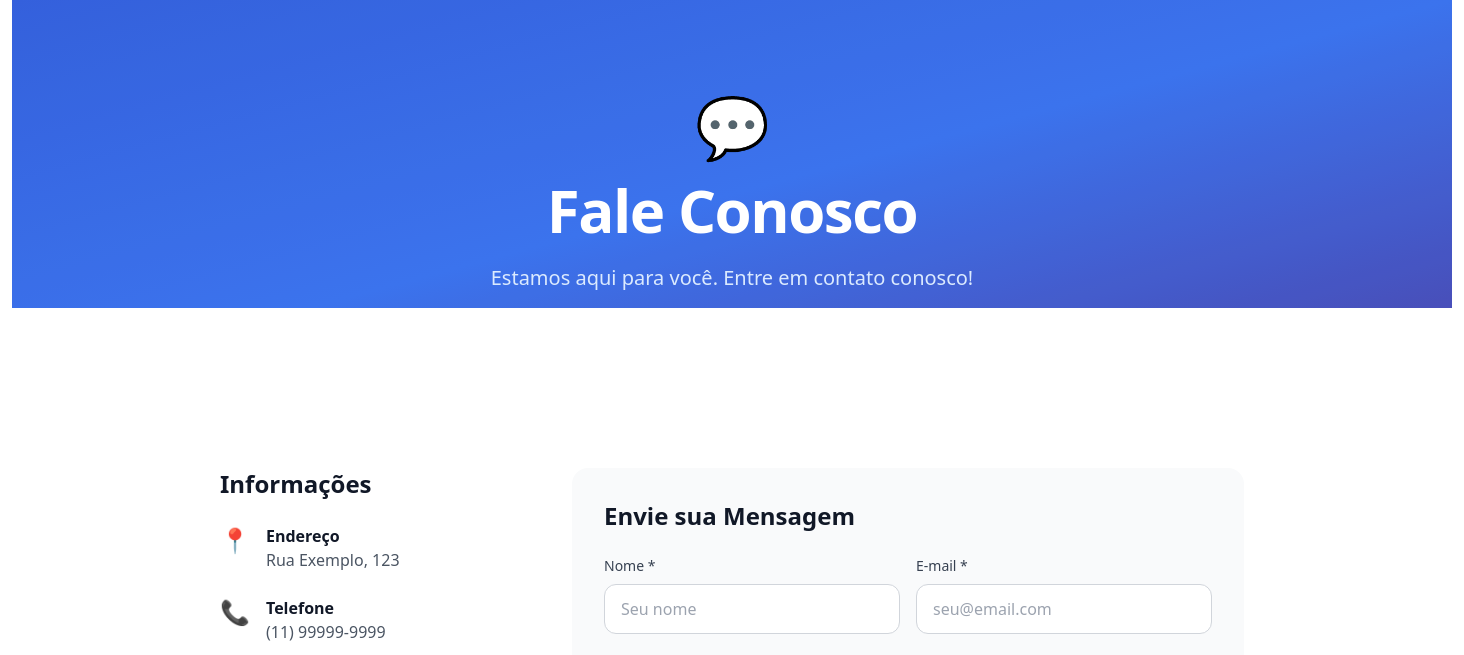
ContactPage › Form Validation › should show error when message is empty
This screenshot has width=1464, height=655.
Type "John Doe" into the field with placeholder "Seu nome" at (752, 609), box x1=604 y1=584 x2=900 y2=634
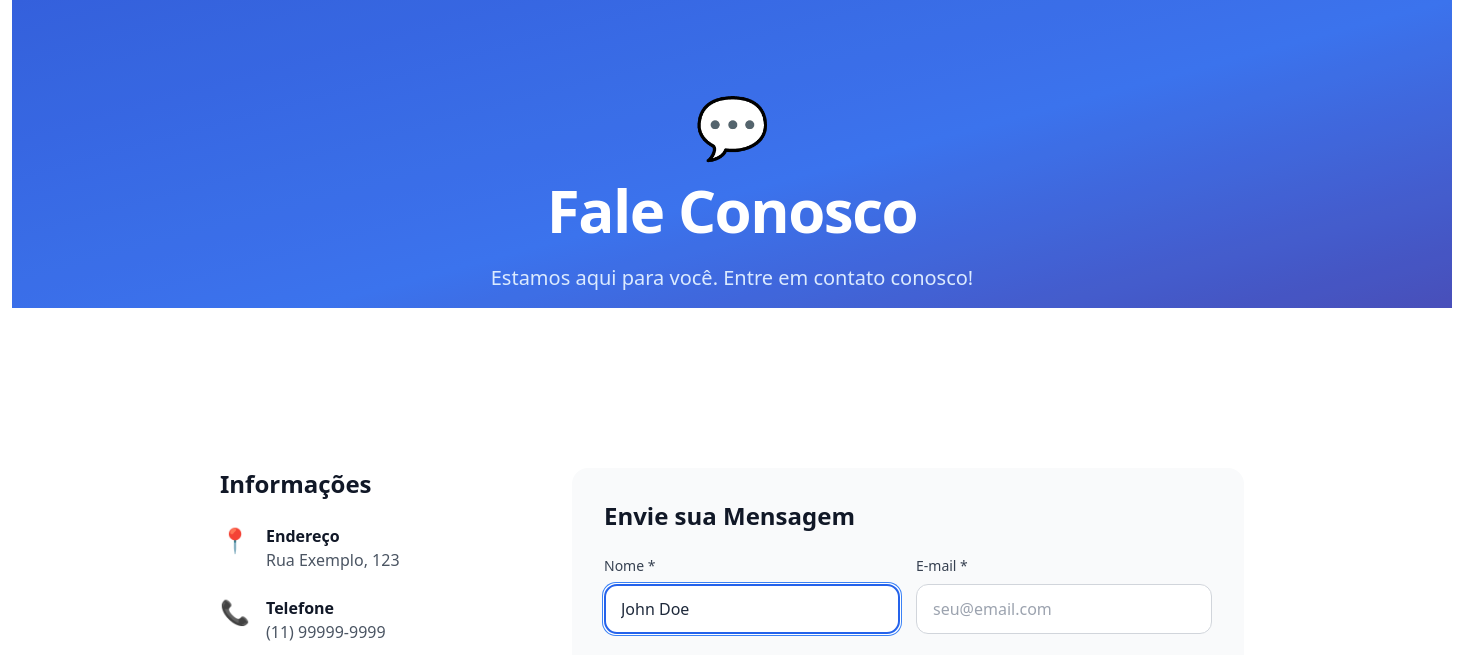
Type "john@example.com" into the field with placeholder "seu@email.com" at (1064, 609), box x1=916 y1=584 x2=1212 y2=634
(page scrolled)
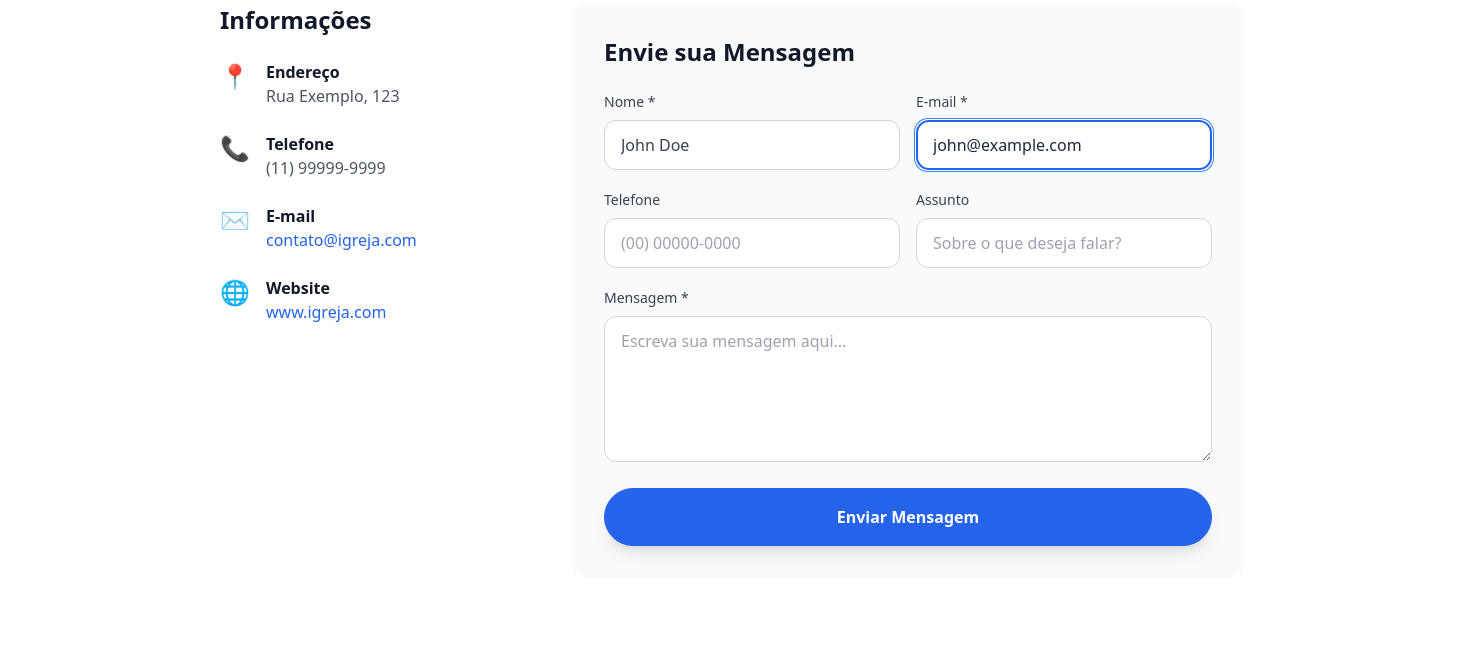
Click the button "Enviar Mensagem" at (908, 517), box x1=604 y1=488 x2=1212 y2=546
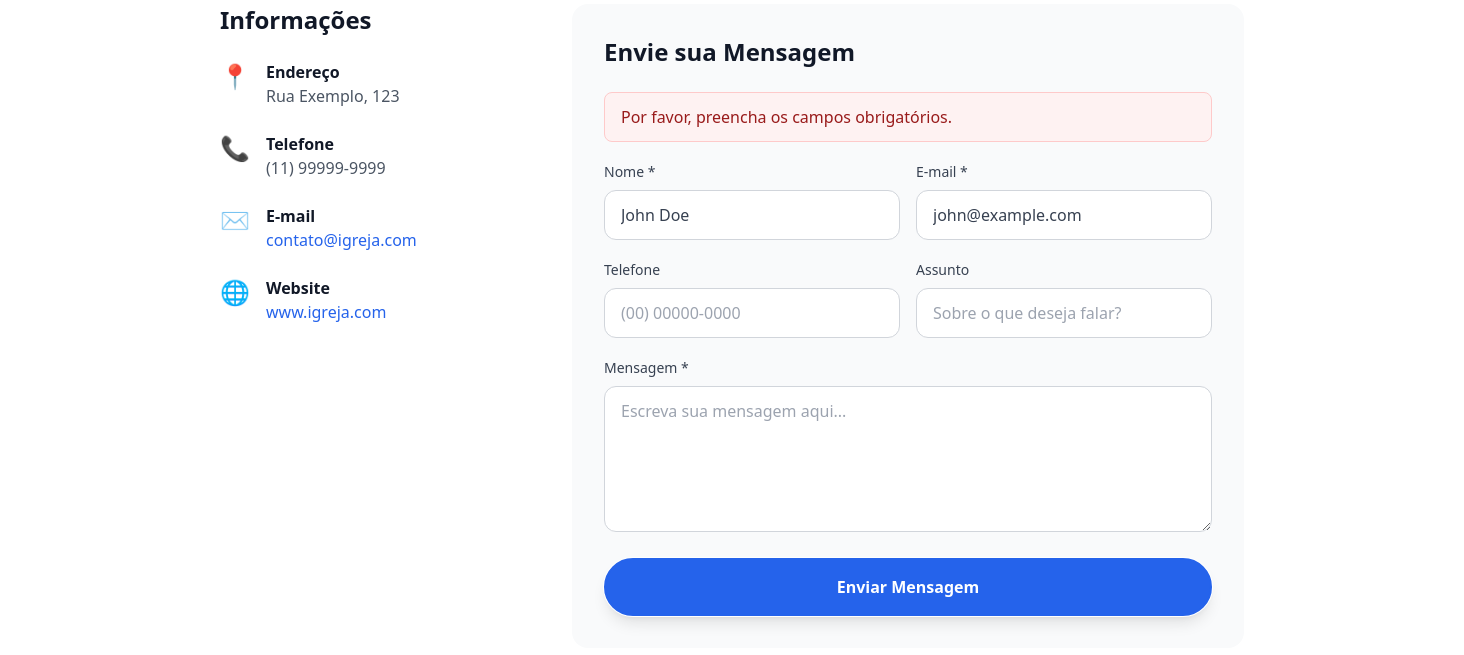
Result: the text "Por favor, preencha os campos obrigatórios." is shown at x1=604 y1=92 x2=1212 y2=142
